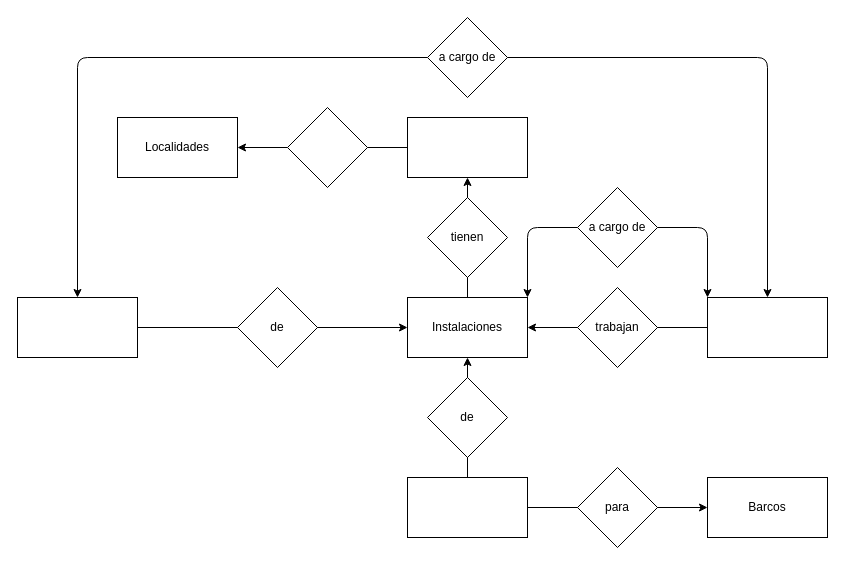
Some shapes in this 845 by 565 pixel diagram are drawn without their labels. The centre of each missing label's shape, as x and y in pixels:
"Cierres" goes at (x=77, y=327).
"Permisos" goes at (x=467, y=507).
"Personal" goes at (x=767, y=327).
"Puertos" goes at (x=467, y=147).
"se ubican en" goes at (x=327, y=147).
